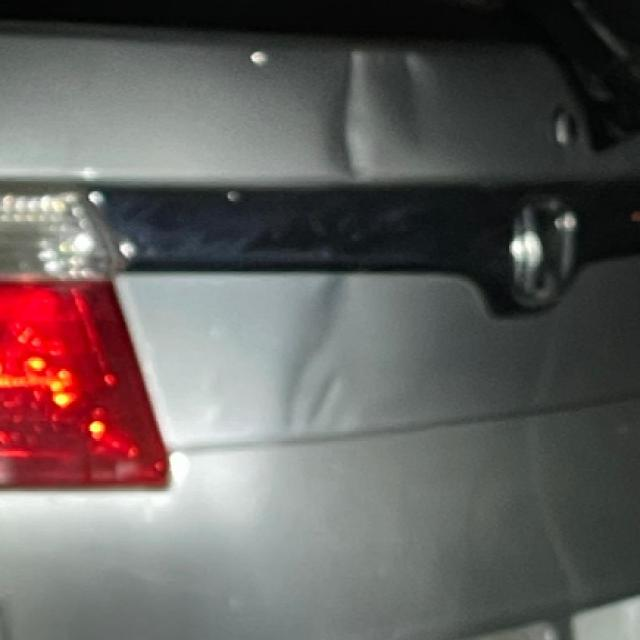dents: (295, 54, 473, 178), (270, 274, 375, 450)
